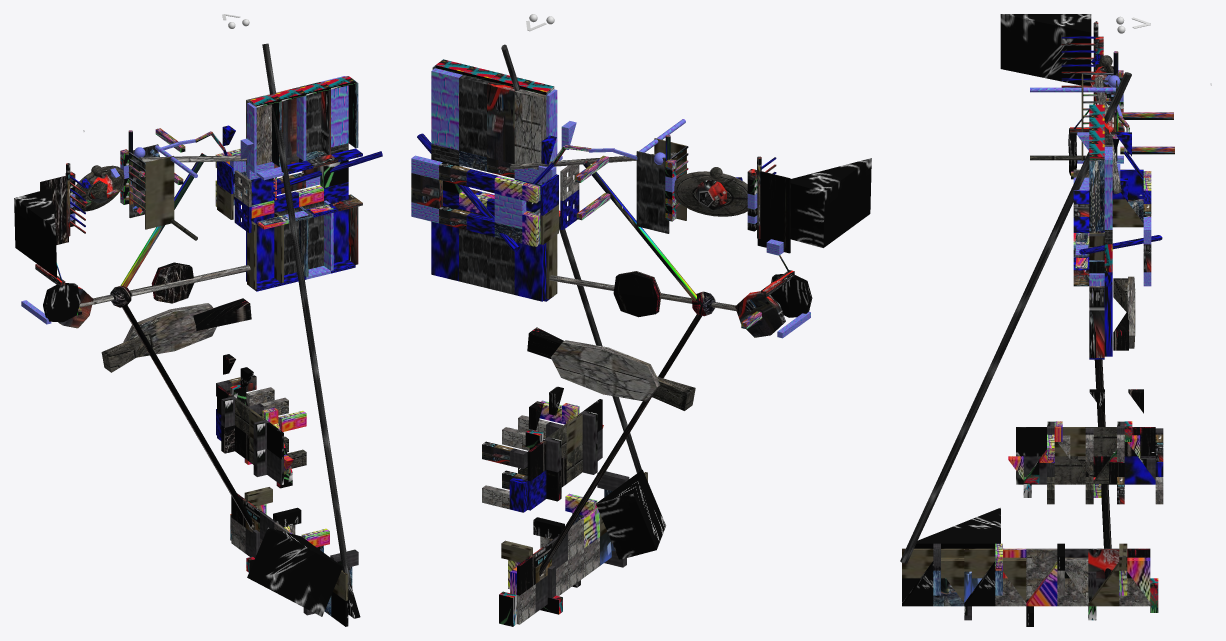
The model's file is badmallv1.glb.
The picture shows the model from 3 angles, left to right: view 1: azimuth 30°, elevation 25°; view 2: azimuth 150°, elevation 25°; view 3: azimuth 270°, elevation 25°; orthographic projection. The views are drawn at different scales.
Visible parts, largest first — view 1: Cube.229, Cylinder.007, Cube.230, Cube.221, Cube.017, Cylinder.010, Cube.217, Cube.056, Cube.175, Cube.219, Sphere, Cube.216 (+24 smaller); view 2: Cube.230, Cube.221, Cube.229, Cube.016, Cube.196, Cube.018, Cube.216, Cube.206, Cube.205, Sphere, Cube.217, Cube.175 (+20 smaller); view 3: Cube.230, Cylinder.007, Cube.229, Cube.215, Cube.194, Cylinder.010, Cube.100, Cube.129, Cube.119, Cube.144, Cube.150, Cube.141 (+26 smaller).
Boxes of the visible parts, left/top/right/bottom form: Cube.229: left=247, top=527, right=342, bottom=616; Cylinder.007: left=262, top=43, right=351, bottom=584; Cube.230: left=14, top=188, right=56, bottom=277; Cube.221: left=123, top=303, right=216, bottom=357; Cube.017: left=145, top=156, right=174, bottom=229; Cylinder.010: left=122, top=305, right=252, bottom=527; Cube.217: left=151, top=262, right=194, bottom=303; Cube.056: left=43, top=283, right=80, bottom=322; Cube.175: left=246, top=213, right=274, bottom=281; Cube.219: left=193, top=298, right=251, bottom=330; Sphere: left=72, top=165, right=124, bottom=211; Cube.216: left=321, top=76, right=348, bottom=147; Cube.230: left=790, top=158, right=871, bottom=247; Cube.221: left=551, top=340, right=659, bottom=401; Cube.229: left=596, top=469, right=665, bottom=559; Cube.016: left=636, top=151, right=669, bottom=233; Cube.196: left=514, top=89, right=546, bottom=169; Cube.018: left=757, top=171, right=790, bottom=253; Cube.216: left=431, top=68, right=462, bottom=150; Cube.206: left=459, top=75, right=490, bottom=157; Cube.205: left=487, top=82, right=514, bottom=163; Sphere: left=674, top=171, right=747, bottom=216; Cube.217: left=613, top=271, right=660, bottom=317; Cube.175: left=514, top=242, right=546, bottom=301; Cube.230: left=1000, top=14, right=1091, bottom=85; Cylinder.007: left=900, top=72, right=1131, bottom=563; Cube.229: left=914, top=507, right=1000, bottom=548; Cube.215: left=1089, top=159, right=1104, bottom=231; Cube.194: left=1089, top=286, right=1104, bottom=357; Cylinder.010: left=1089, top=231, right=1111, bottom=579; Cube.100: left=1016, top=427, right=1046, bottom=456; Cube.129: left=1026, top=548, right=1057, bottom=578; Cube.119: left=1054, top=456, right=1085, bottom=484; Cube.144: left=902, top=561, right=933, bottom=606; Cube.150: left=964, top=561, right=995, bottom=606; Cube.141: left=1026, top=561, right=1057, bottom=606.
Size of the model in its own units: 591 by 836 by 402.
Materials: 17 (17 with a texture image).
